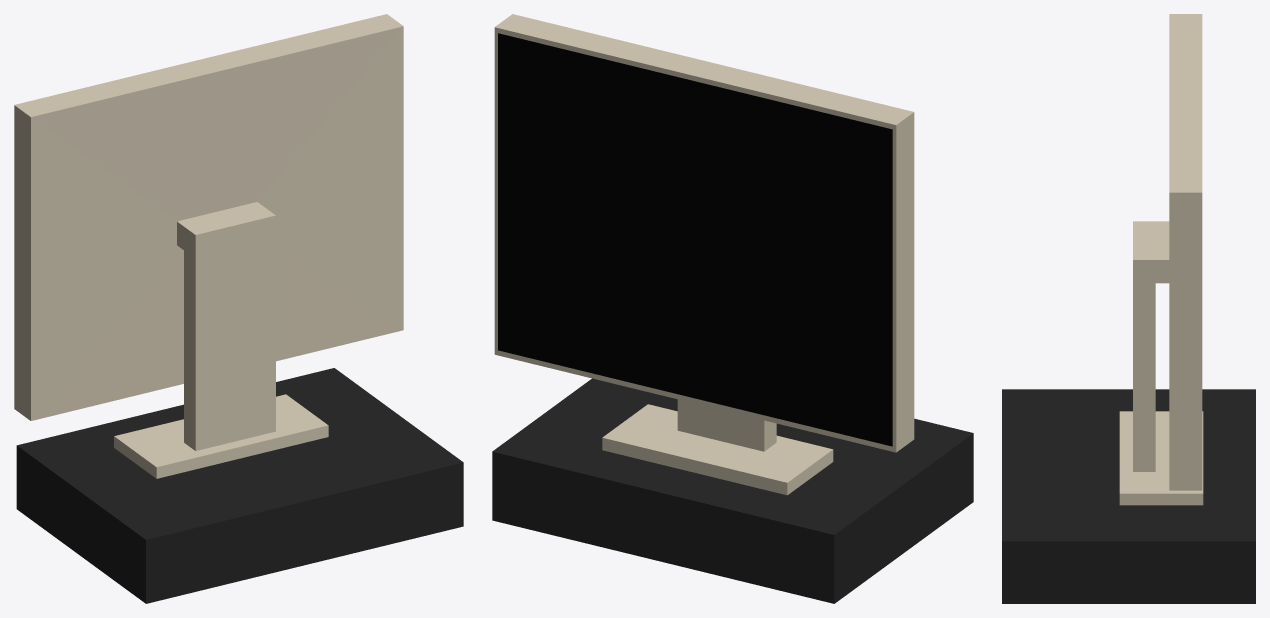
3 views of the same model, side by side, from view 1: azimuth 30°, elevation 25°; view 2: azimuth 150°, elevation 25°; view 3: azimuth 270°, elevation 25° (orthographic). The views are drawn at different scales.
Visible parts, largest first — view 1: Cube.019, Cube; view 2: Cube.019, Cube; view 3: Cube, Cube.019.
Part boxes in pixels (x1,y1,x2,y2): Cube.019: (14, 14, 403, 478); Cube: (16, 368, 463, 603); Cube.019: (494, 14, 914, 495); Cube: (492, 378, 973, 603); Cube: (1002, 389, 1255, 603); Cube.019: (1119, 14, 1203, 505).
Size of the model in its own units: 610 by 675 by 367.
